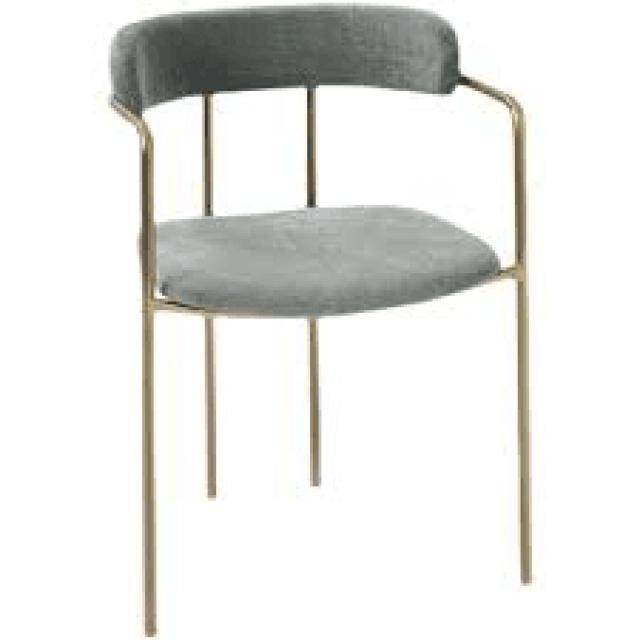chair: (99, 0, 541, 640), (88, 0, 513, 300)
